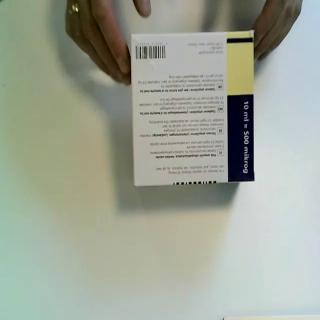fentanyl50ug_ml: (130, 29, 257, 189)
